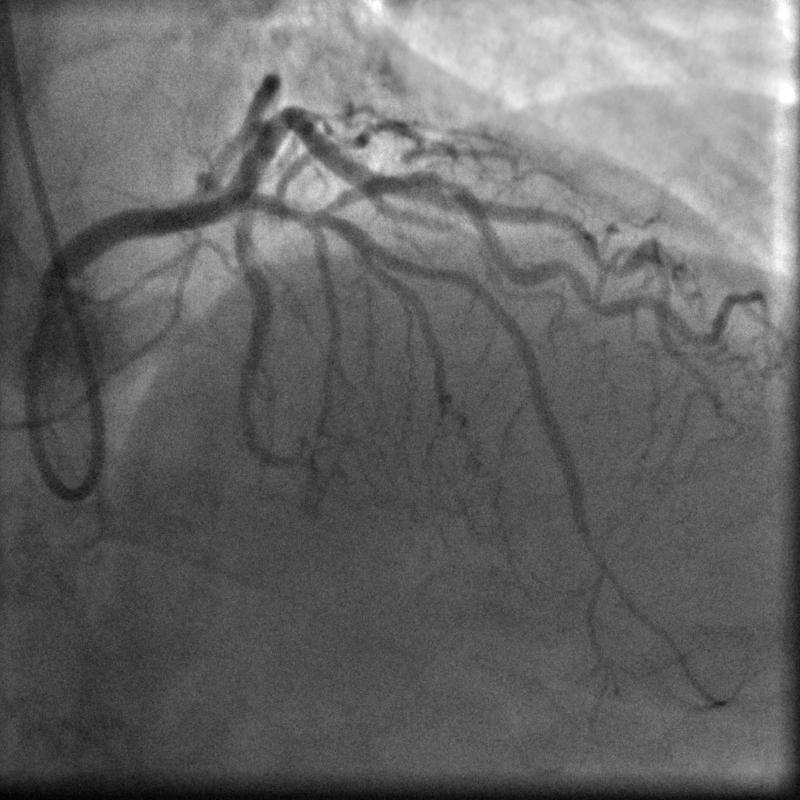Stenosis: (412, 165, 466, 199)
